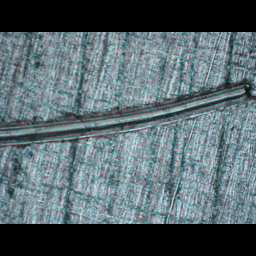d: (0, 77, 254, 150)
